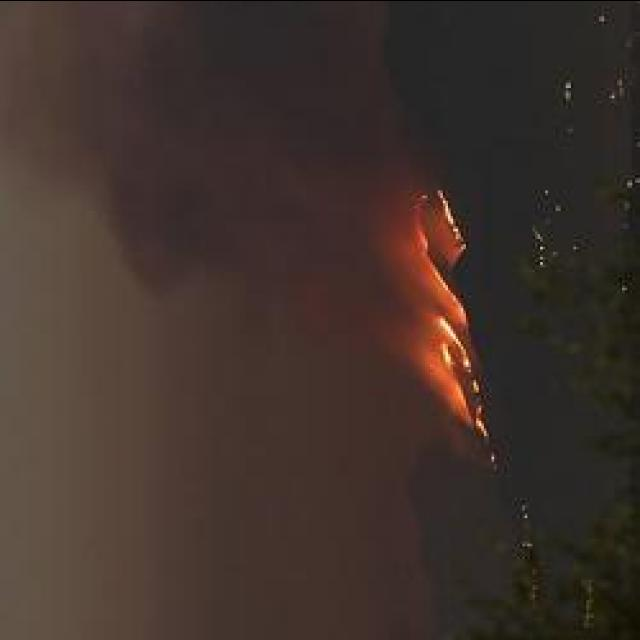fire: (432, 310, 466, 364)
smoke: (4, 0, 388, 205), (93, 157, 392, 300), (368, 268, 423, 368)
